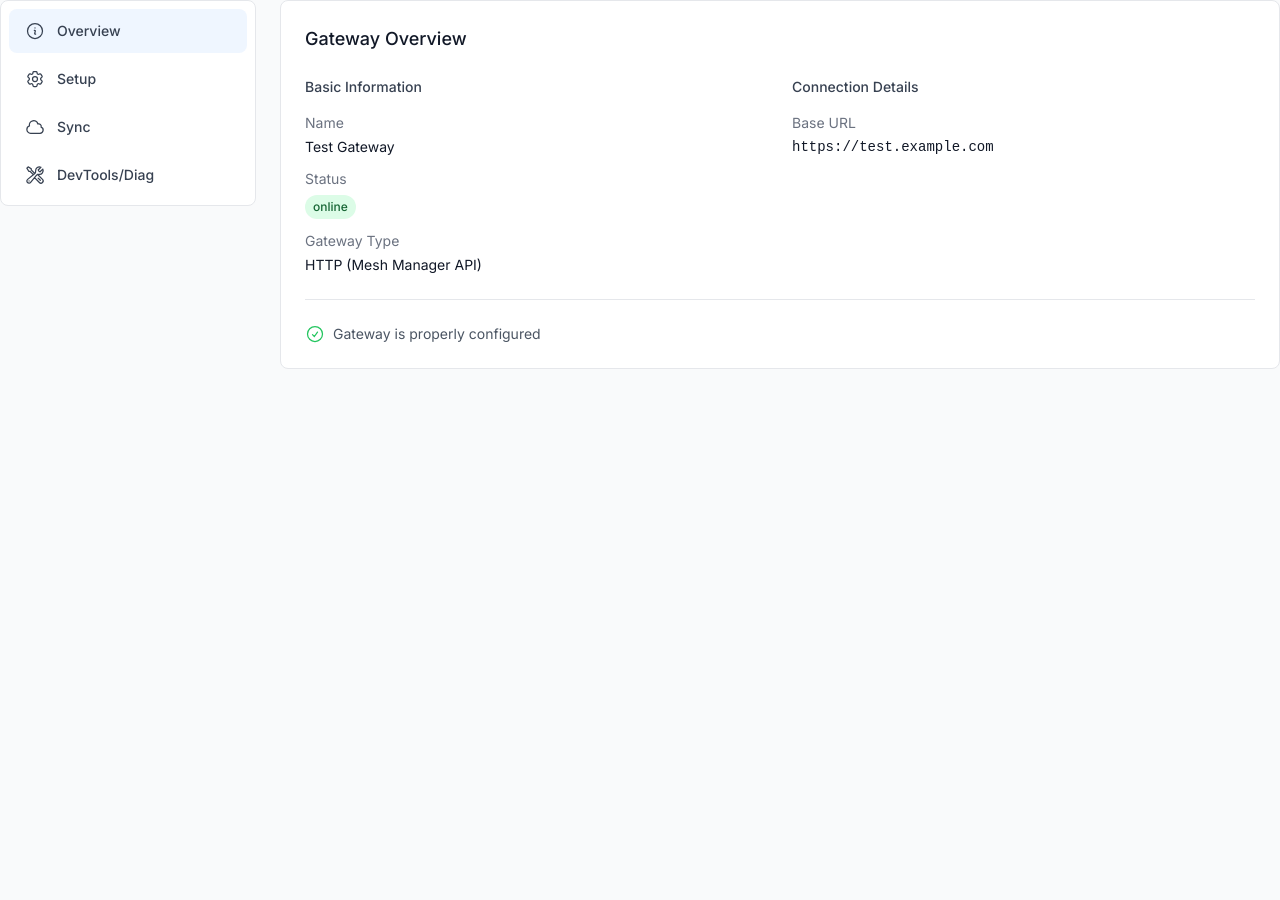
Test: FacilityGatewayTab › Access Control › should show actions for admin users
Check: the button "Sync" is shown, box [9,105,247,149]
Note: Navigate to Setup tab and expand configuration to see Test Connection
Click the button "Setup" at coordinates (128, 79), box [9,57,247,101]
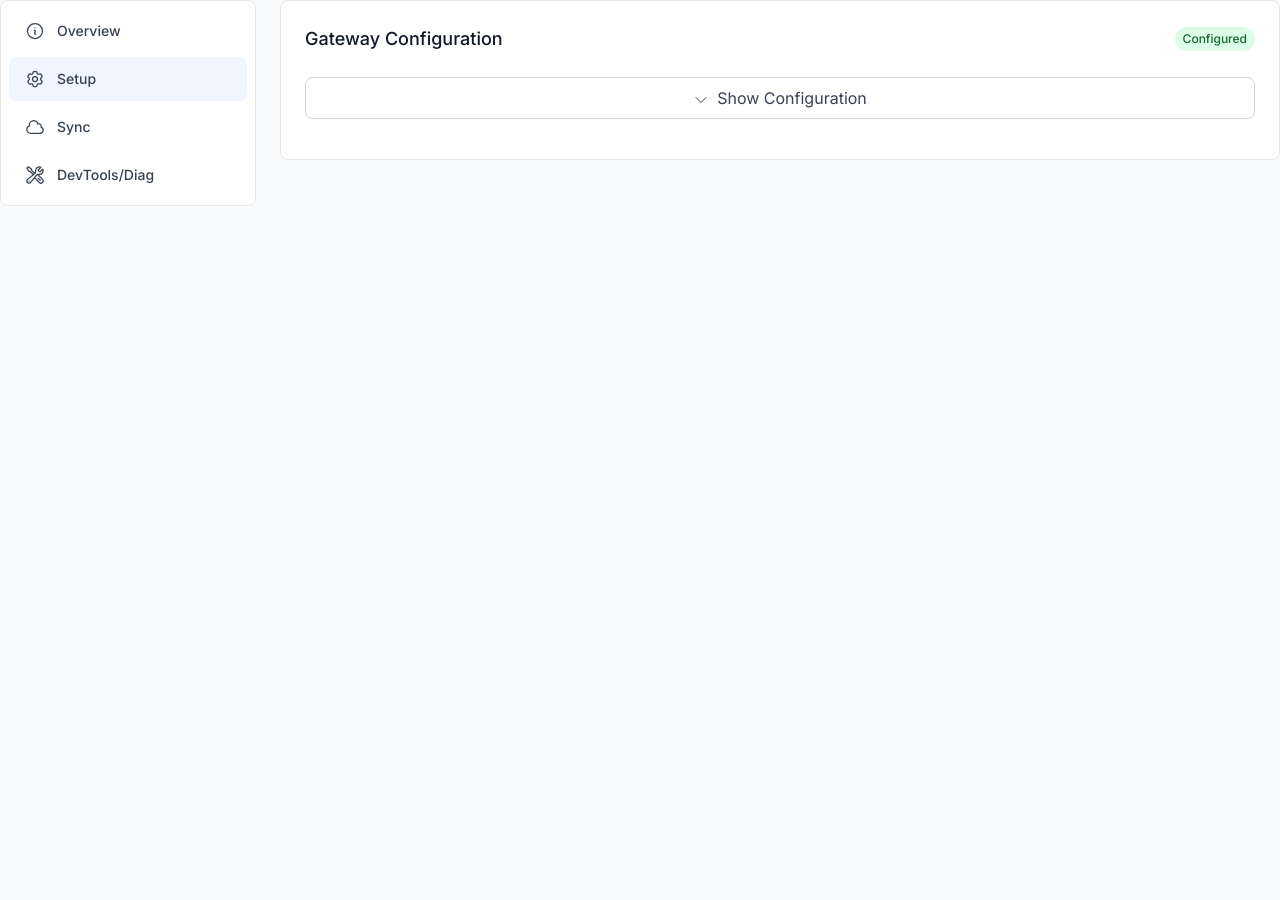
Check: the button "Show Configuration" is shown
Click the button "Show Configuration" at coordinates (780, 98), box [305,77,1255,119]
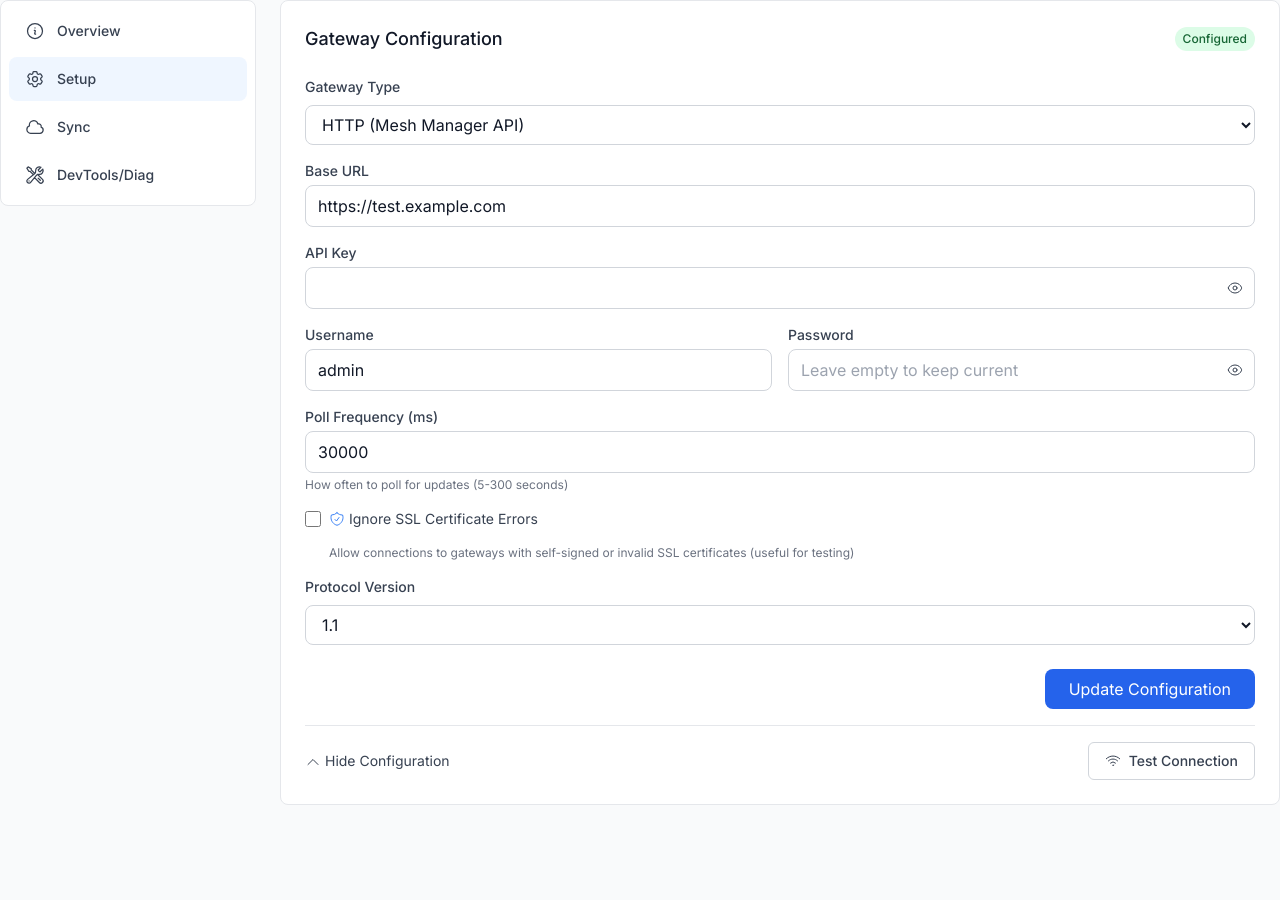
Check: the button "Test Connection" is shown, box [1088,742,1255,780]
Note: Navigate to Sync tab to see Sync Now
Click the button "Sync" at coordinates (128, 127), box [9,105,247,149]
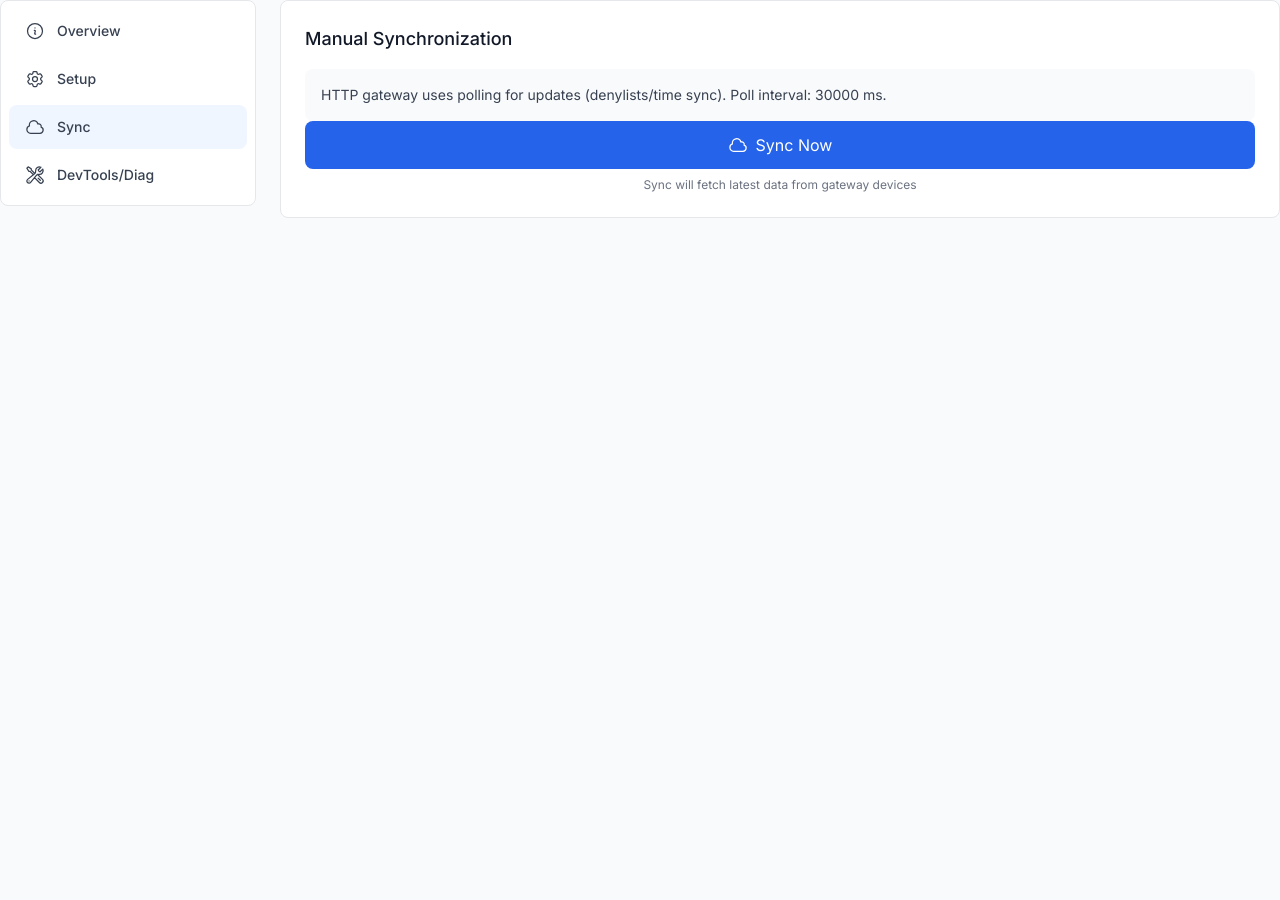
Check: the button "Sync Now" is shown, box [305,121,1255,169]
